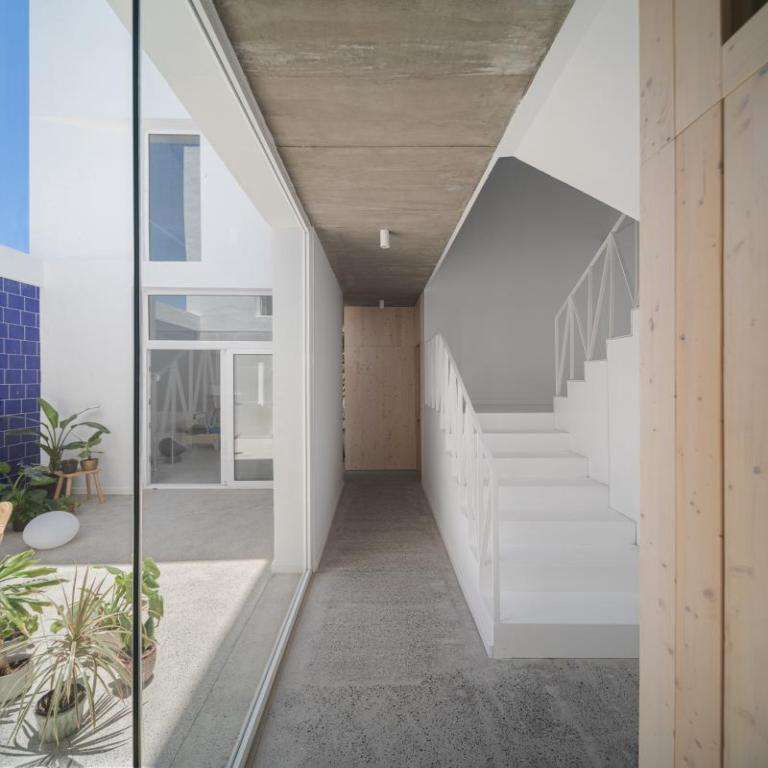white-walls: (533, 22, 623, 195)
